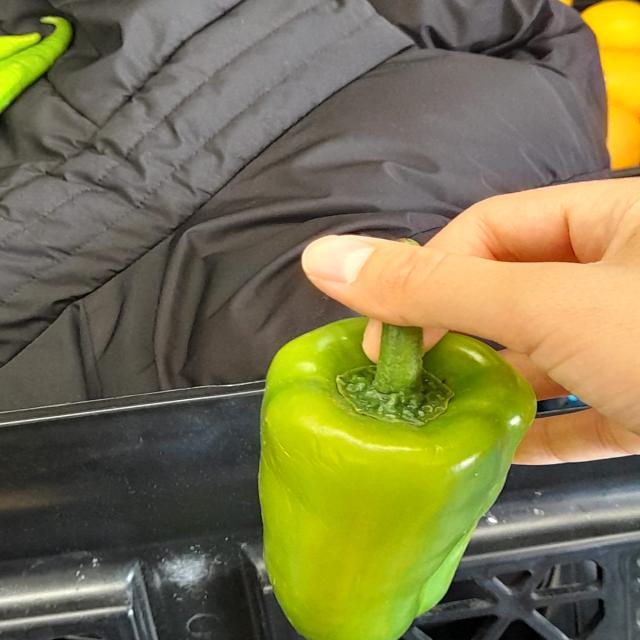bell pepper: (253, 301, 529, 640)
